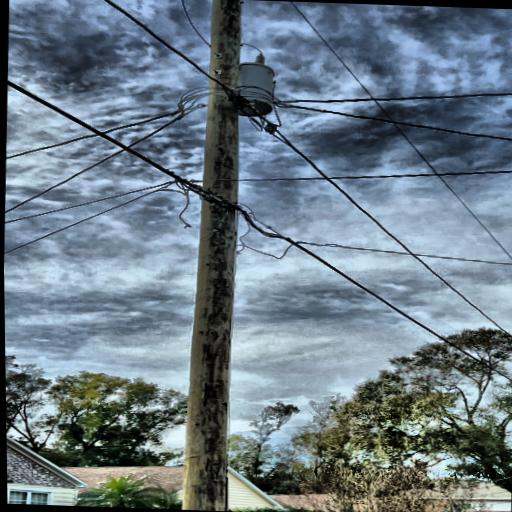pole: (141, 0, 263, 511)
transformer: (229, 60, 279, 118)
